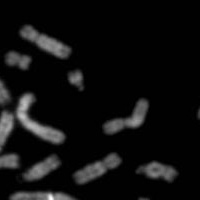chromosome: (16, 92, 66, 143), (18, 23, 71, 58), (103, 98, 148, 135), (74, 153, 122, 185), (21, 154, 60, 182), (136, 159, 177, 182), (10, 189, 87, 200), (0, 111, 15, 152), (5, 50, 31, 69), (0, 58, 10, 105), (66, 69, 85, 91), (0, 147, 17, 169), (196, 68, 200, 121), (134, 196, 149, 200)
